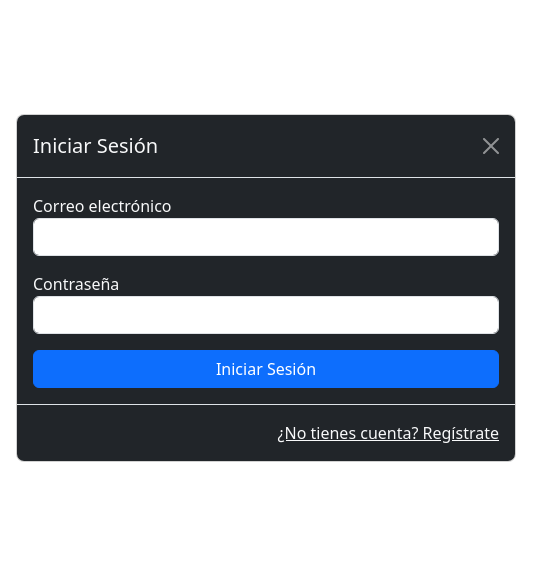
Test: LoginModal › muestra mensaje de error cuando faltan campos en login y registro
// En login, enviar vacío
Click the button "Iniciar Sesión": (266, 369) [33,350,499,388]
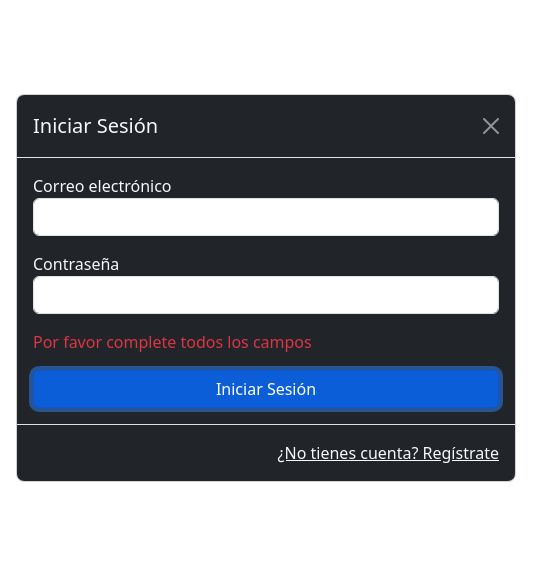
Now the text "Por favor complete todos los campos" is shown, box [33,331,312,353]
// Cambiar a registro y enviar vacío
Click the text "¿No tienes cuenta? Regístrate": (388, 453) [278,441,499,465]
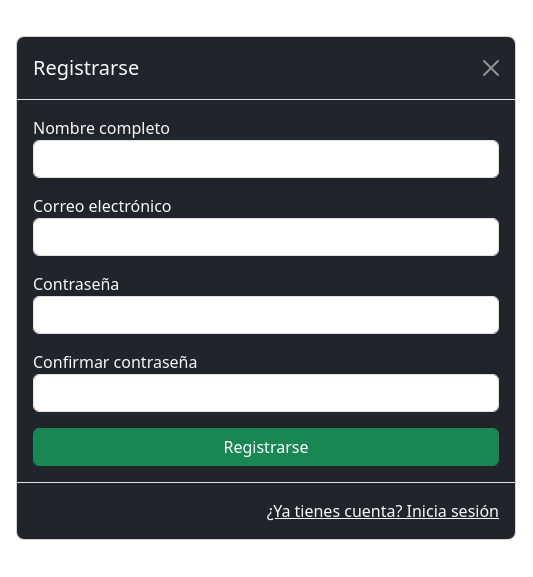
Click the button "Registrarse": (266, 447) [33,428,499,466]
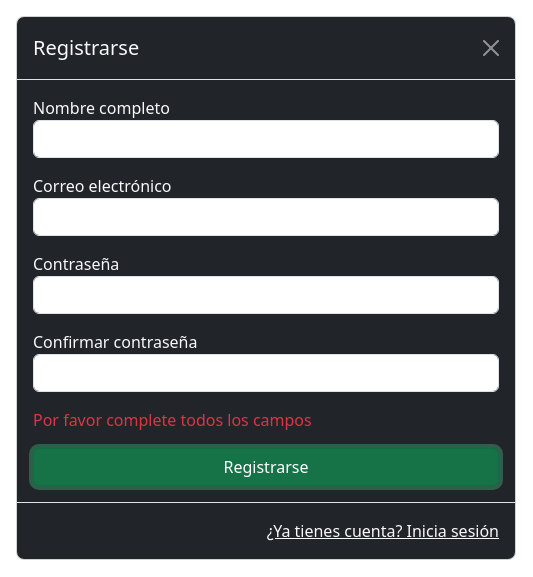
Now the text "Por favor complete todos los campos" is shown, box [33,409,312,431]
